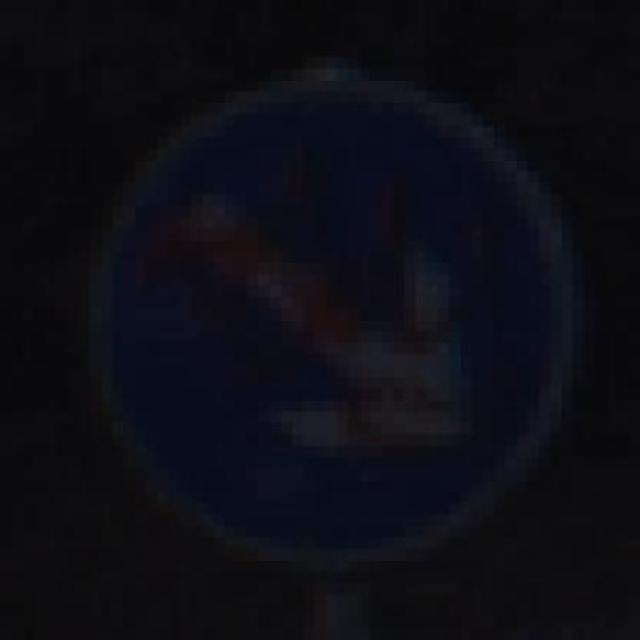Keep-Right: (79, 57, 596, 583)
